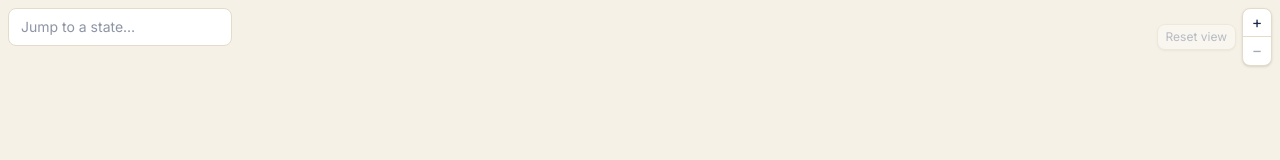
Test: IndiaMap › zoom/pan controls (PR 3) › Reset returns to the default view (Zoom out/Reset disabled again)
This screenshot has width=1280, height=160.
Click the button named "Zoom in". click: [1257, 23]
box: [1243,9,1271,37]
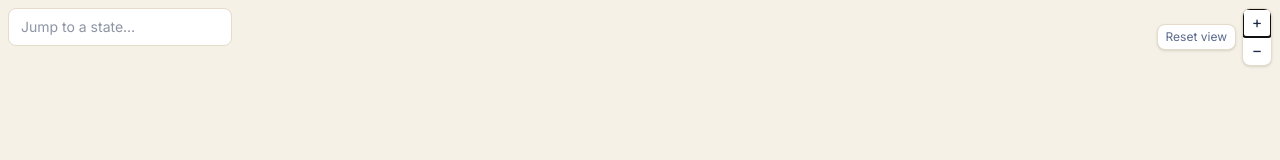
Now the button with test id "india-map-reset-view" is enabled
Click the button with test id "india-map-reset-view". click: [1196, 37]
box: [1157,24,1236,50]
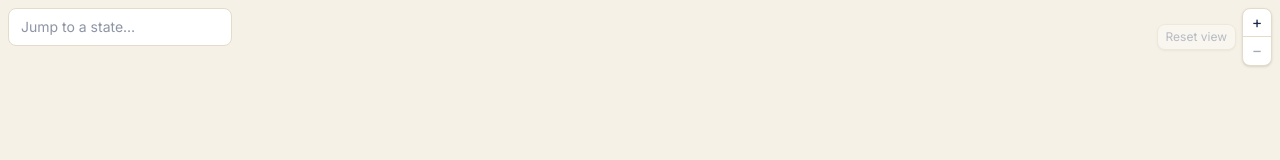
Expected: the button named "Zoom out" is disabled, [1243,37,1271,65]
Now the button with test id "india-map-reset-view" is disabled, box [1157,24,1236,50]
